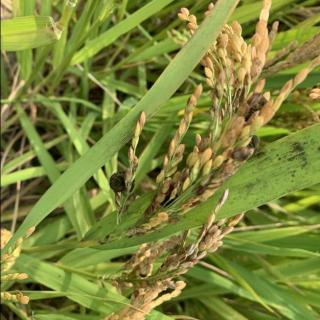Gosong-Palsu: (108, 170, 135, 194)
